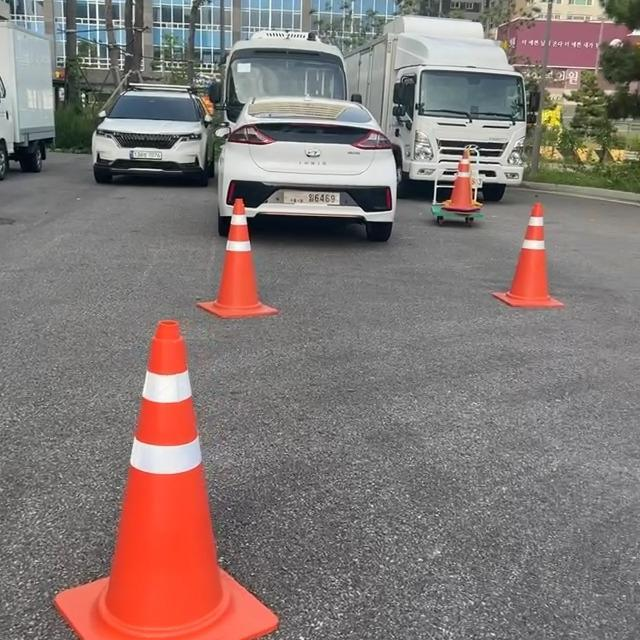fallen_object: (27, 334, 330, 640), (170, 177, 305, 311), (483, 170, 580, 331), (446, 145, 492, 219)
